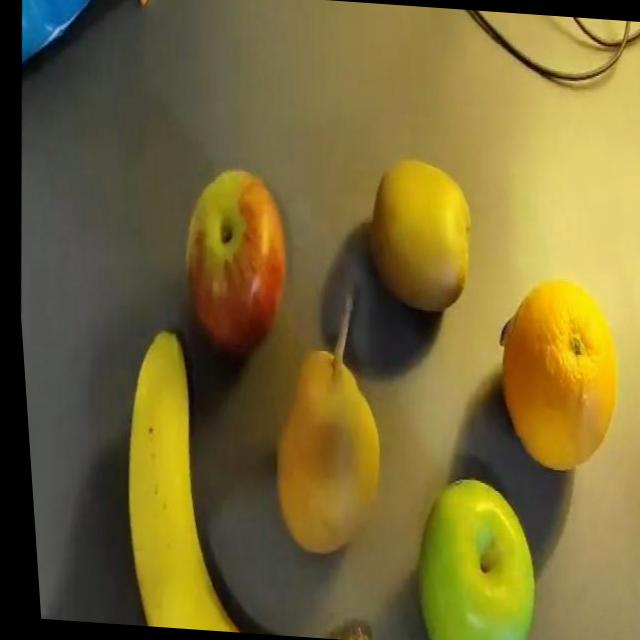Apple: (372, 465, 565, 640), (170, 165, 295, 358)
Orange: (483, 276, 625, 476)
